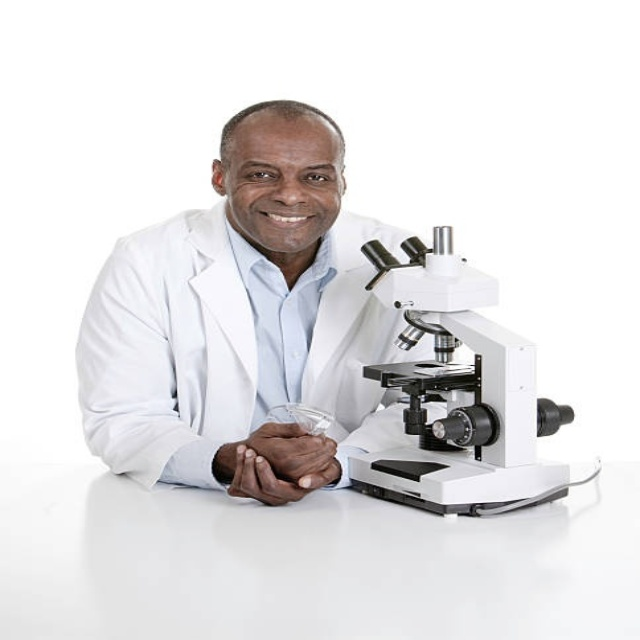Sin_gafas: (235, 158, 341, 188)
Sin_guantes: (222, 423, 343, 506)
Sin_mascara: (255, 205, 320, 244)
